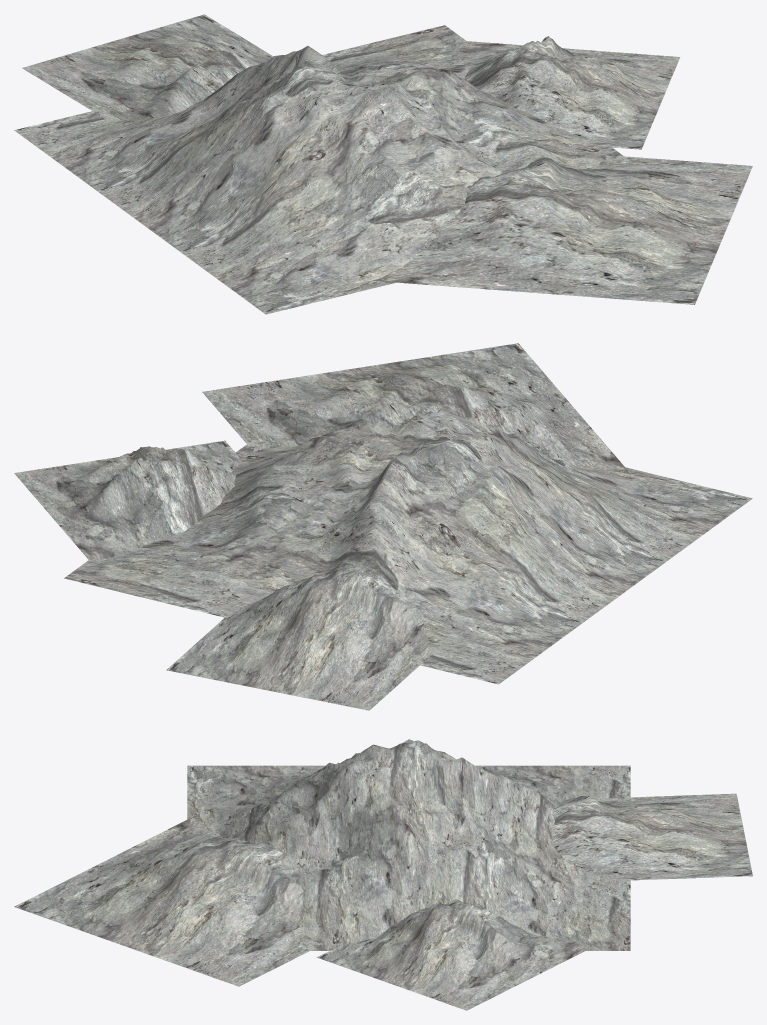
File: arafat_placeholder.glb
3 renders of one model, top to bottom at view 1: azimuth 30°, elevation 25°; view 2: azimuth 150°, elevation 25°; view 3: azimuth 270°, elevation 25°, orthographic. The views are drawn at different scales.
Parts seen in each view (by area): view 1: Untitled_1_Mesh, Untitled_1_Mesh2, Untitled_1_Mesh1, Untitled_1_Mesh3; view 2: Untitled_1_Mesh, Untitled_1_Mesh2, Untitled_1_Mesh3, Untitled_1_Mesh1; view 3: Untitled_1_Mesh, Untitled_1_Mesh2, Untitled_1_Mesh1, Untitled_1_Mesh3.
Part boxes in pixels (x1,y1,x2,y2): Untitled_1_Mesh: (14,25,623,314); Untitled_1_Mesh2: (372,155,752,304); Untitled_1_Mesh1: (457,36,680,149); Untitled_1_Mesh3: (22,14,273,121); Untitled_1_Mesh: (64,406,752,684); Untitled_1_Mesh2: (202,343,631,474); Untitled_1_Mesh3: (166,569,434,710); Untitled_1_Mesh1: (14,440,242,561); Untitled_1_Mesh: (187,739,630,950); Untitled_1_Mesh2: (14,813,323,986); Untitled_1_Mesh1: (317,900,590,1010); Untitled_1_Mesh3: (551,793,752,881).
Size of what is drawn, in the model's own units: 32.07 by 5.86 by 40.67.
1 material, 1 textured.
